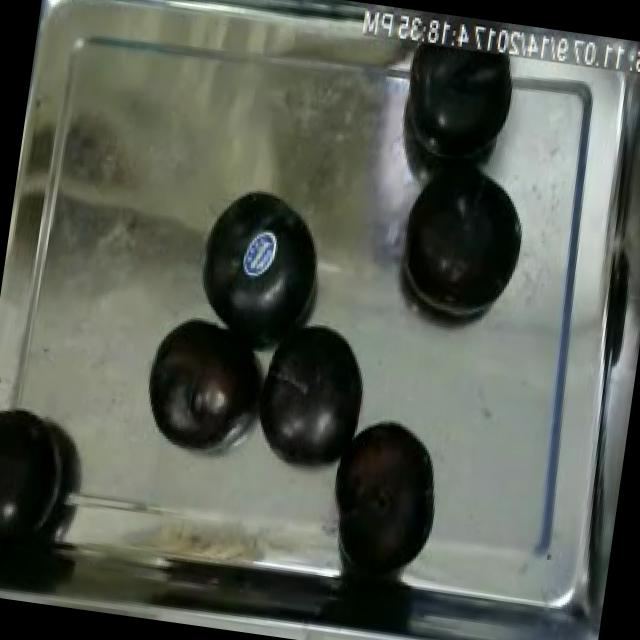Fruit: (184, 174, 340, 355), (388, 148, 538, 328), (318, 405, 458, 584), (242, 304, 384, 480), (131, 301, 274, 461), (0, 400, 72, 563)
